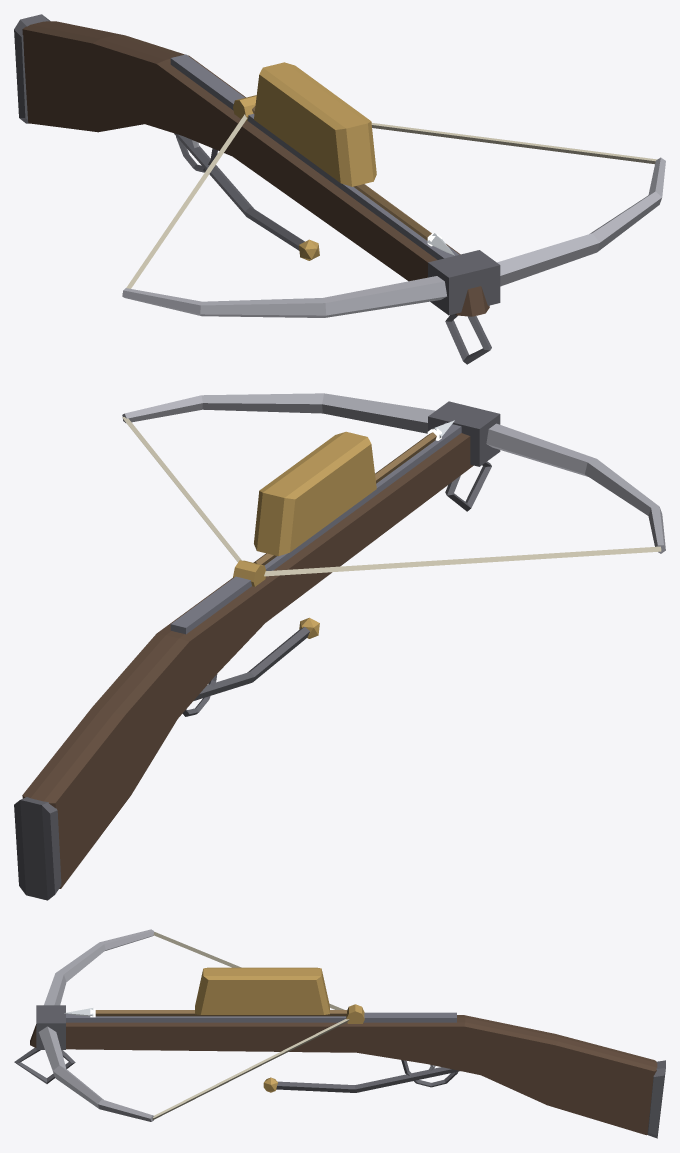
Rendered from bolt_thrower.glb.
3 views of the same model, one above another, from view 1: azimuth 30°, elevation 25°; view 2: azimuth 150°, elevation 25°; view 3: azimuth 270°, elevation 25° (orthographic). The views are drawn at different scales.
Visible parts, largest first — view 1: bolt_thrower; view 2: bolt_thrower; view 3: bolt_thrower.
Boxes of the visible parts, x1,y1,x2,y2 form: bolt_thrower: [14, 14, 665, 364]; bolt_thrower: [14, 393, 665, 900]; bolt_thrower: [14, 929, 665, 1138].
Size of the model in its own units: 1.05 by 0.425 by 1.54.
